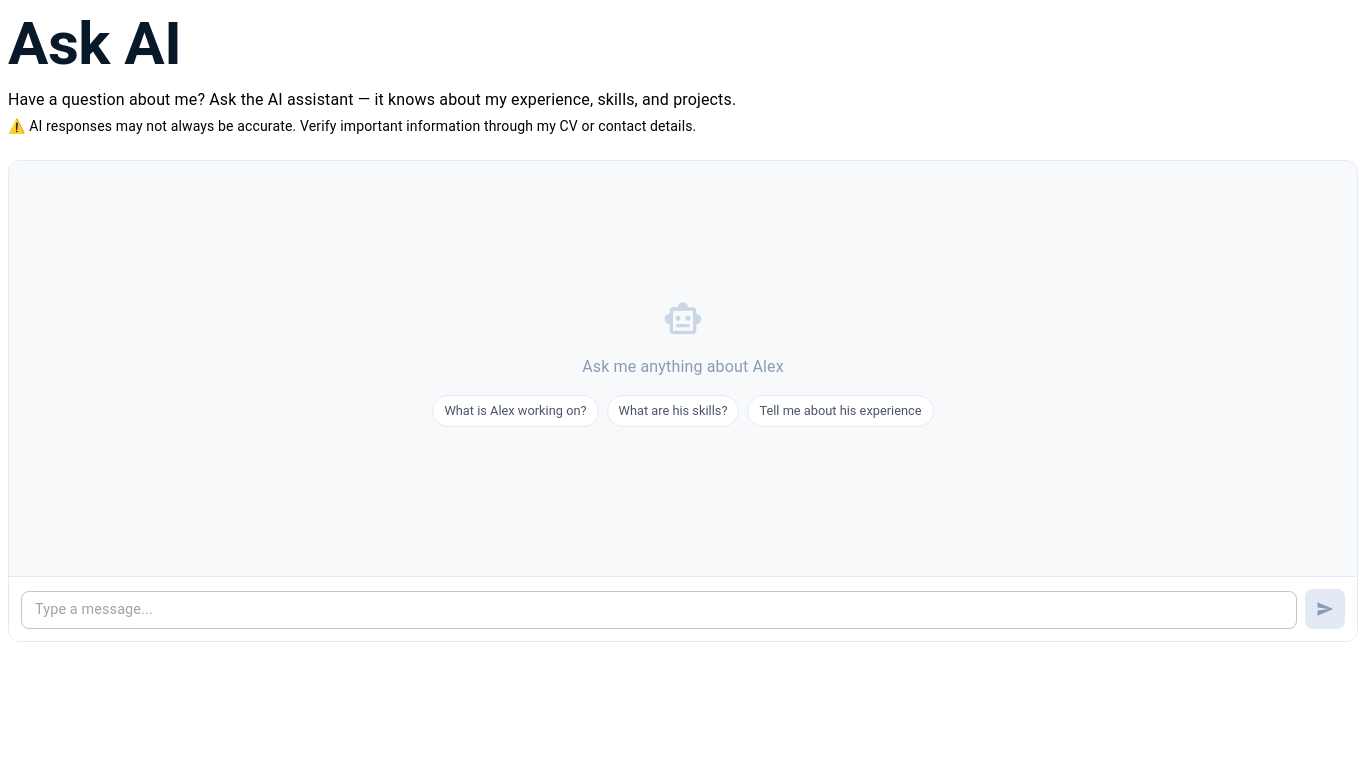
it: Chat › shows a fallback message when the stream ends without producing any tokens
The width and height of the screenshot is (1366, 768).
Type "Say nothing" into the text box with placeholder "Type a message..." at (659,610), box [35,600,1283,620]
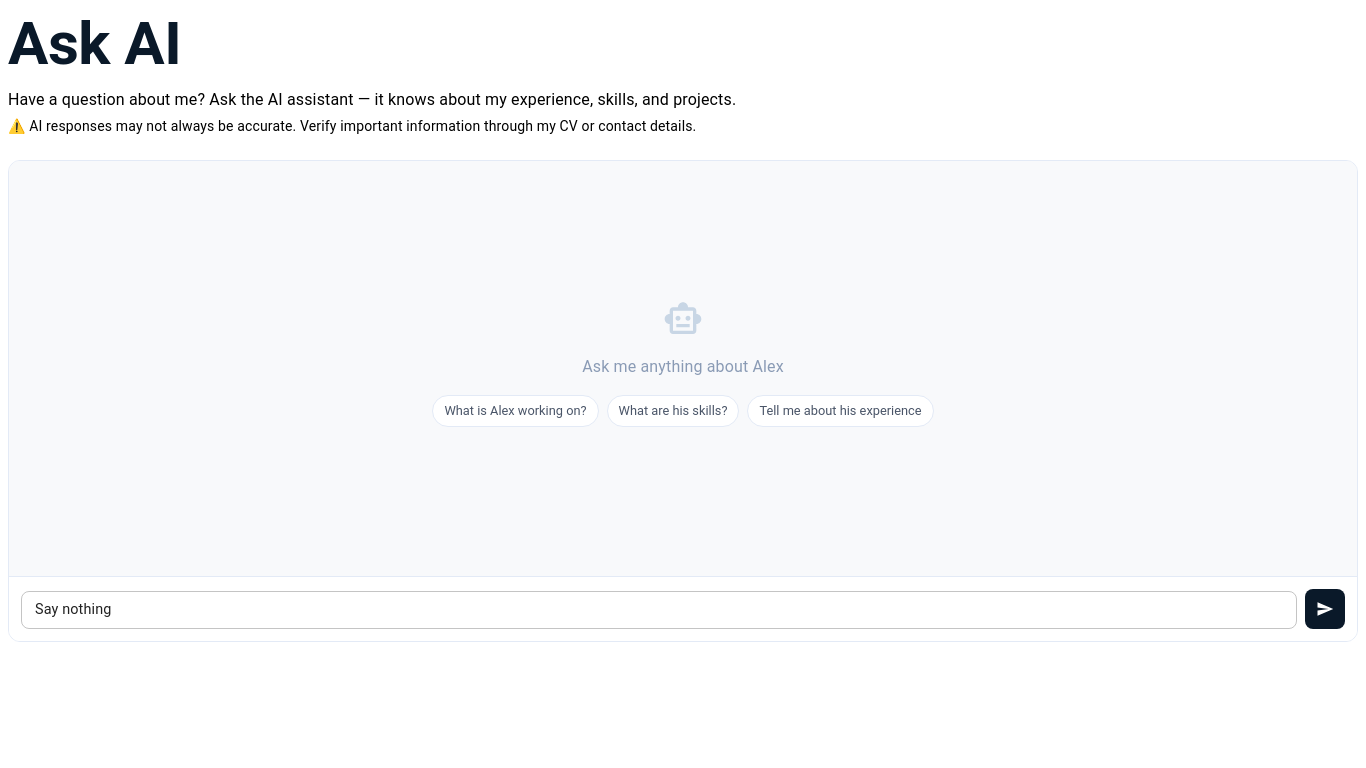
Click the button named "Send message" at (1325,609), box [1305,589,1345,629]
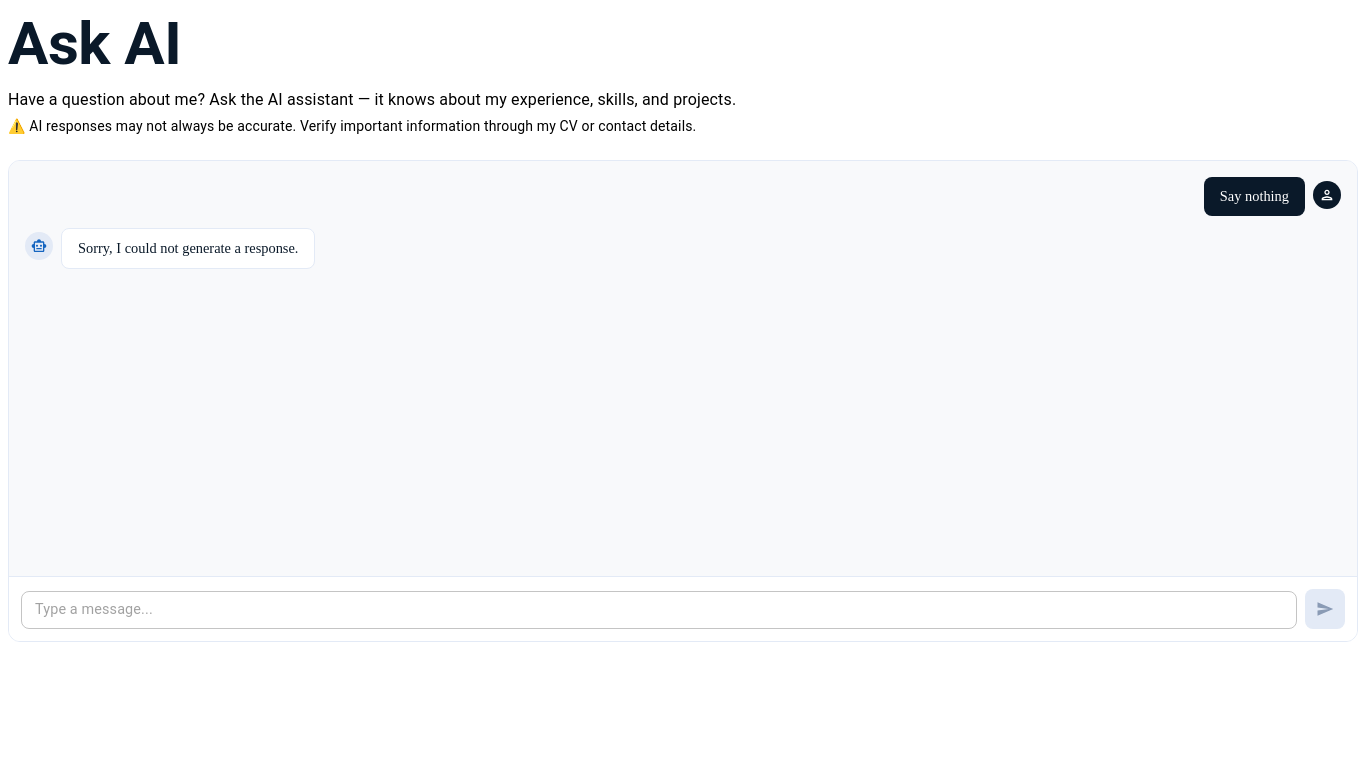
Check: the text "Sorry, I could not generate a response." is shown, box [78,237,298,260]
